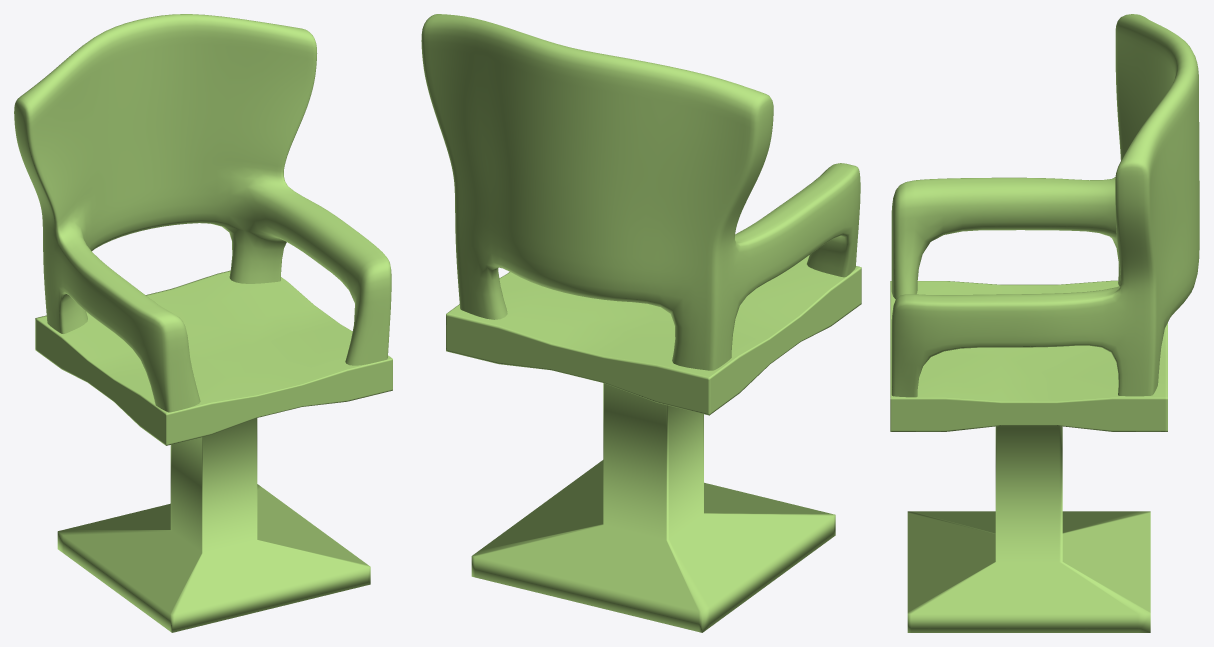
3 renders of one model, left to right at view 1: azimuth 30°, elevation 25°; view 2: azimuth 150°, elevation 25°; view 3: azimuth 270°, elevation 25°, orthographic. The views are drawn at different scales.
Parts seen in each view (by area): view 1: Object_2; view 2: Object_2; view 3: Object_2.
Boxes of the visible parts, <box> form: Object_2: <box>14,14,392,632</box>; Object_2: <box>421,14,861,632</box>; Object_2: <box>890,14,1199,632</box>.
Size of the model in its own units: 1.19 by 1.91 by 1.03.
